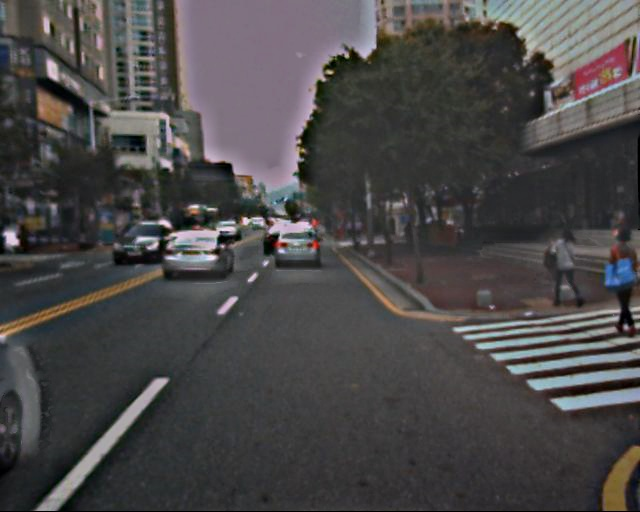person: (595, 224, 640, 338), (548, 227, 583, 312)
